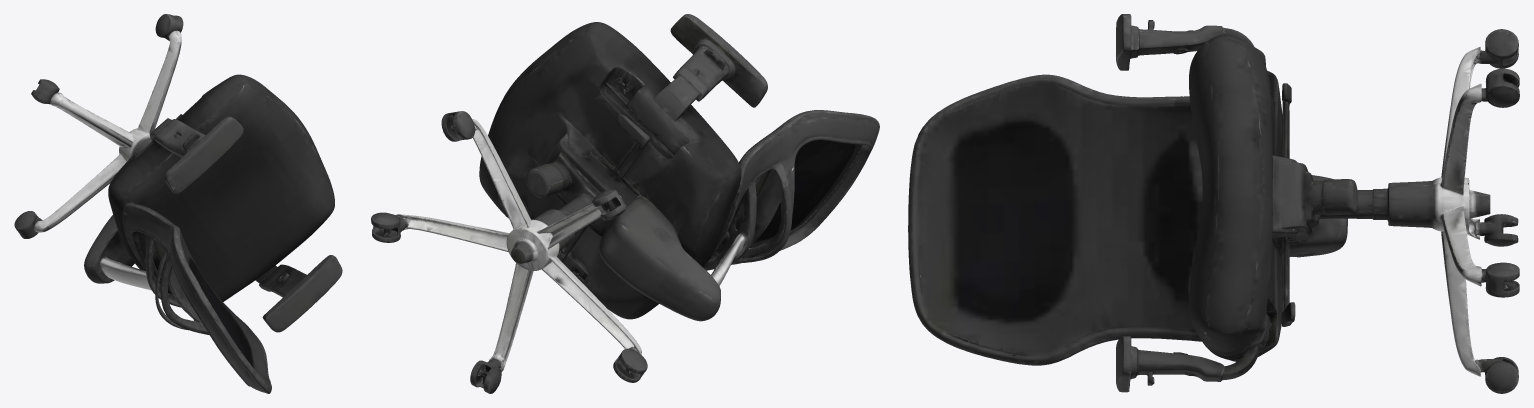
The picture shows the model from 3 angles, left to right: view 1: azimuth 30°, elevation 25°; view 2: azimuth 150°, elevation 25°; view 3: azimuth 270°, elevation 25°; orthographic projection. The views are drawn at different scales.
Visible parts, largest first — view 1: Mesh_0.003; view 2: Mesh_0.003; view 3: Mesh_0.003.
Boxes of the visible parts, x1,y1,x2,y2 form: Mesh_0.003: [14, 14, 342, 393]; Mesh_0.003: [371, 14, 879, 393]; Mesh_0.003: [908, 14, 1519, 393].
Size of the model in its own units: 0.0212 by 0.0209 by 0.0323.
1 material, 1 textured.
